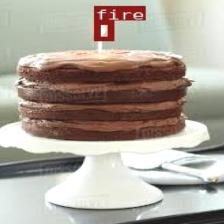fire: (93, 20, 112, 40)
